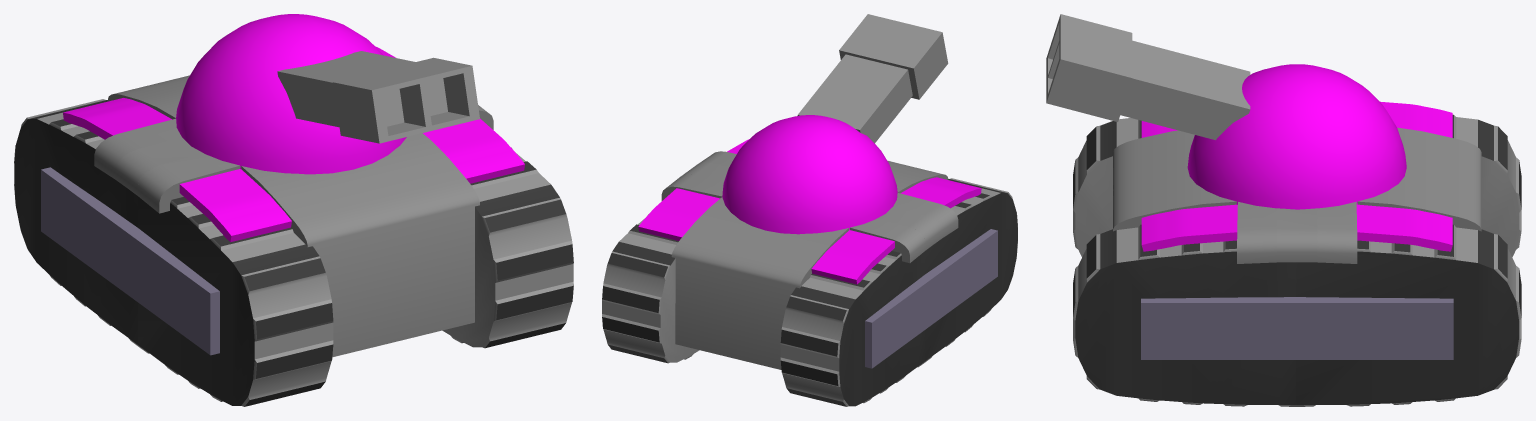
File: Tank.fbx
3 renders of one model, left to right at view 1: azimuth 30°, elevation 25°; view 2: azimuth 150°, elevation 25°; view 3: azimuth 270°, elevation 25°, orthographic. The views are drawn at different scales.
Parts seen in each view (by area): view 1: Cube.035, Cube.033, Sphere.012, Cube.036, Cube.034, Cube.037; view 2: Cube.035, Cube.033, Sphere.012, Cube.036, Cube.034, Cube.037; view 3: Cube.035, Sphere.012, Cube.033, Cube.034, Cube.036, Cube.037.
Boxes of the visible parts, <box> form: Cube.035: <box>14,99,573,406</box>; Cube.033: <box>94,75,493,357</box>; Sphere.012: <box>176,14,406,174</box>; Cube.036: <box>277,51,479,143</box>; Cube.034: <box>41,167,219,355</box>; Cube.037: <box>63,46,524,242</box>; Cube.035: <box>602,178,1017,406</box>; Cube.033: <box>661,151,958,369</box>; Sphere.012: <box>722,115,897,234</box>; Cube.036: <box>797,14,948,143</box>; Cube.034: <box>865,229,997,368</box>; Cube.037: <box>638,139,981,284</box>; Cube.035: <box>1073,114,1521,406</box>; Sphere.012: <box>1187,64,1406,209</box>; Cube.033: <box>1113,127,1481,263</box>; Cube.034: <box>1141,297,1453,359</box>; Cube.036: <box>1046,14,1250,140</box>; Cube.037: <box>1141,101,1452,251</box>.
Size of the model in its own units: 251 by 232 by 332.
